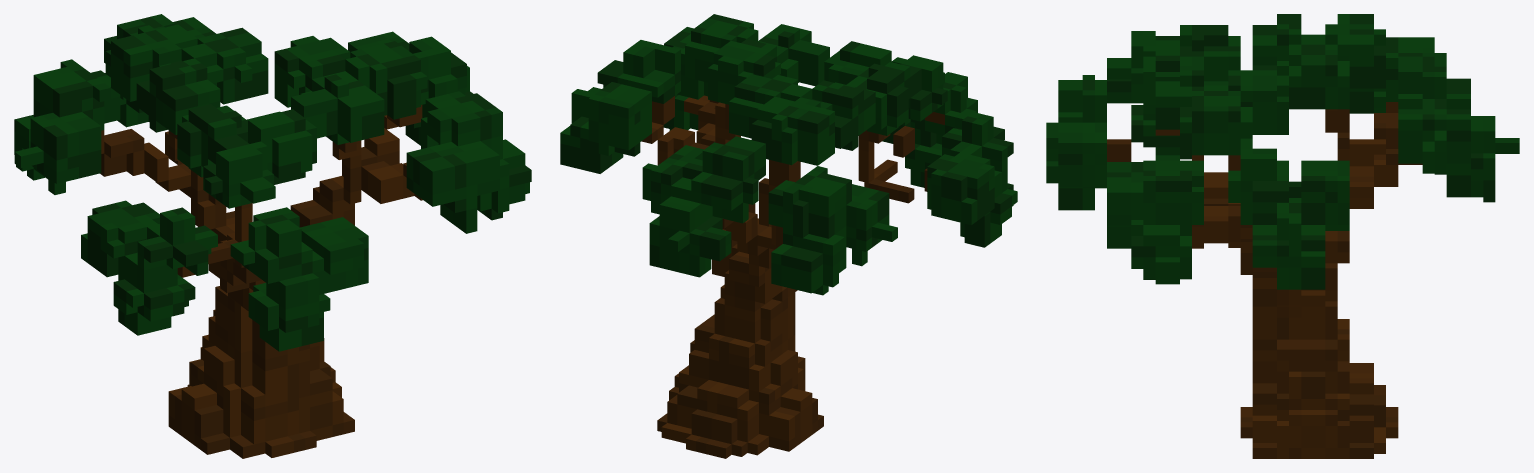
The model's file is Shrub2-1-1.obj.
3 views of the same model, side by side, from view 1: azimuth 30°, elevation 25°; view 2: azimuth 150°, elevation 25°; view 3: azimuth 270°, elevation 25° (orthographic). The views are drawn at different scales.
Visible parts, largest first — view 1: 1; view 2: 1; view 3: 1.
Boxes of the visible parts, <box> form: 1: <box>14,14,531,458</box>; 1: <box>560,14,1017,458</box>; 1: <box>1046,14,1519,458</box>.
Size of the model in its own units: 3.7 by 3.3 by 3.9.
Materials: 1 (1 with a texture image).
